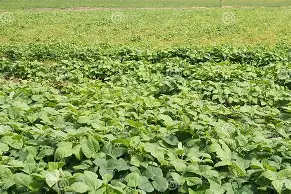crops: (0, 43, 288, 193), (0, 6, 287, 44), (86, 144, 174, 191), (155, 43, 287, 71), (198, 73, 286, 109), (2, 155, 62, 192), (76, 50, 143, 82), (6, 0, 214, 9), (1, 39, 79, 63), (244, 157, 289, 191), (165, 115, 196, 141), (225, 0, 287, 8), (203, 0, 225, 9)
